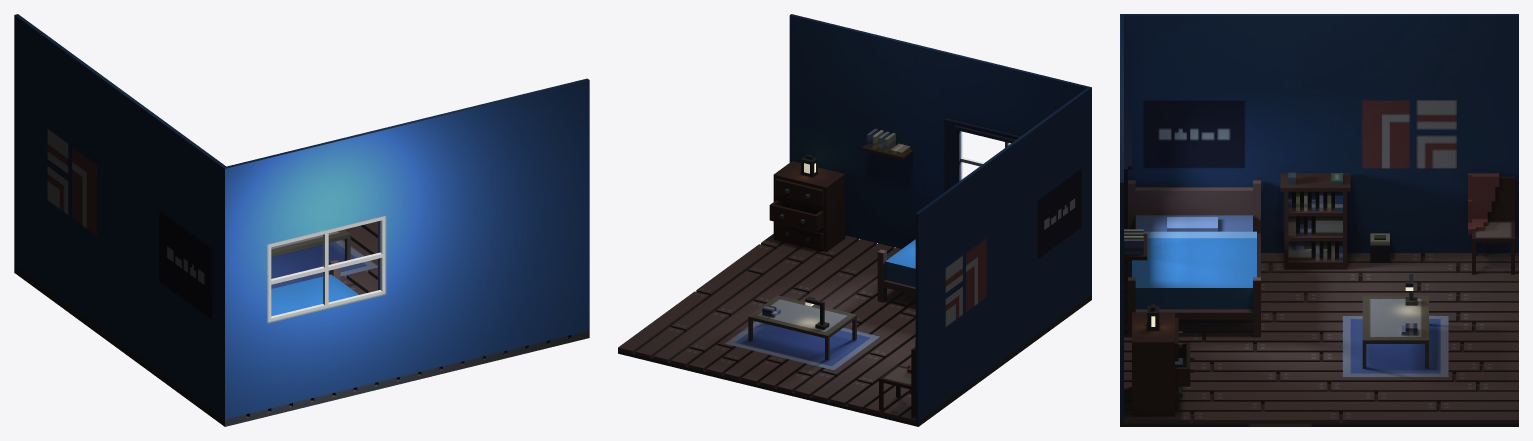
File: island_home.glb
3 renders of one model, left to right at view 1: azimuth 30°, elevation 25°; view 2: azimuth 150°, elevation 25°; view 3: azimuth 270°, elevation 25°, orthographic. The views are drawn at different scales.
Parts seen in each view (by area): view 1: bedroom.merged; view 2: bedroom.merged; view 3: bedroom.merged.
Part boxes in pixels (x1=…): bedroom.merged: x1=14, y1=14, x2=589, y2=426; bedroom.merged: x1=618, y1=14, x2=1091, y2=426; bedroom.merged: x1=1120, y1=14, x2=1518, y2=426.
Bounding box in the file's own units: 102 × 69 × 102.
Materials: 3 (1 with a texture image).
